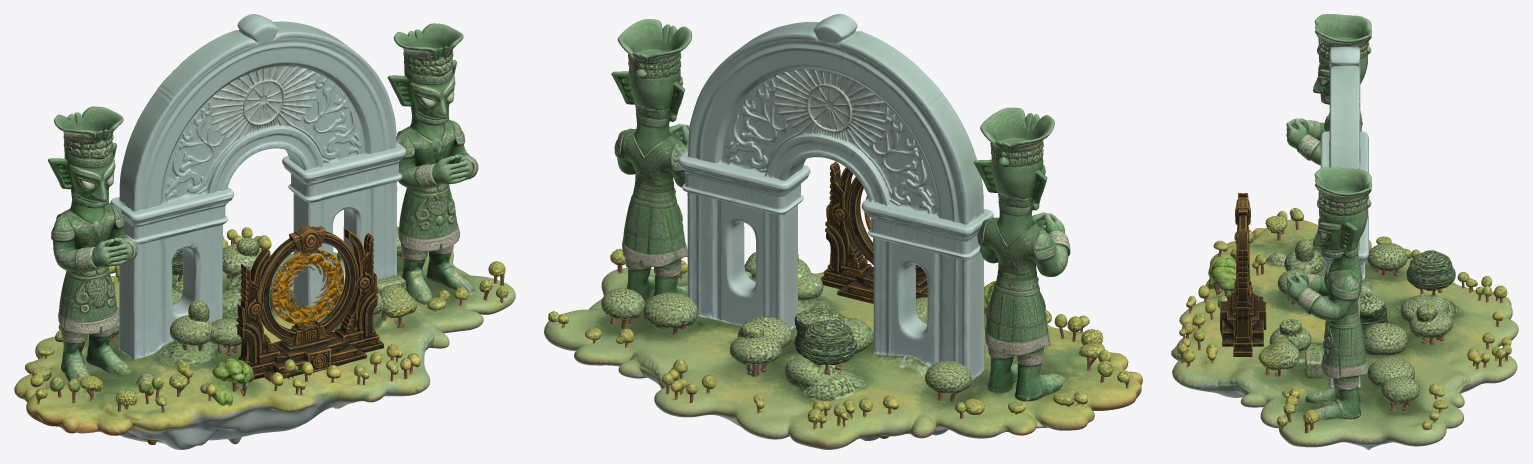
Rendered from 15-civilization-gate.glb.
The picture shows the model from 3 angles, left to right: view 1: azimuth 30°, elevation 25°; view 2: azimuth 150°, elevation 25°; view 3: azimuth 270°, elevation 25°; orthographic projection. The views are drawn at different scales.
Parts seen in each view (by area): view 1: tripo_node_bbcc85b6-3ad8-422b-b677-e2766067ee58, Meshy_AI_Aureate_Vortex_Gate_0817200025_texture, Meshy_AI_Golden_Vortex_Emblem_0817192120_texture; view 2: tripo_node_bbcc85b6-3ad8-422b-b677-e2766067ee58, Meshy_AI_Aureate_Vortex_Gate_0817200025_texture; view 3: tripo_node_bbcc85b6-3ad8-422b-b677-e2766067ee58, Meshy_AI_Aureate_Vortex_Gate_0817200025_texture.
Boxes of the visible parts, bbox=[...] form: tripo_node_bbcc85b6-3ad8-422b-b677-e2766067ee58: bbox=[14, 14, 515, 449]; Meshy_AI_Aureate_Vortex_Gate_0817200025_texture: bbox=[236, 226, 383, 381]; Meshy_AI_Golden_Vortex_Emblem_0817192120_texture: bbox=[270, 249, 344, 324]; tripo_node_bbcc85b6-3ad8-422b-b677-e2766067ee58: bbox=[544, 14, 1142, 449]; Meshy_AI_Aureate_Vortex_Gate_0817200025_texture: bbox=[820, 161, 927, 303]; tripo_node_bbcc85b6-3ad8-422b-b677-e2766067ee58: bbox=[1171, 14, 1518, 449]; Meshy_AI_Aureate_Vortex_Gate_0817200025_texture: bbox=[1220, 193, 1266, 356].
Bounding box in the file's own units: 6.5 × 4.94 × 4.33.
3 materials, 3 textured.
